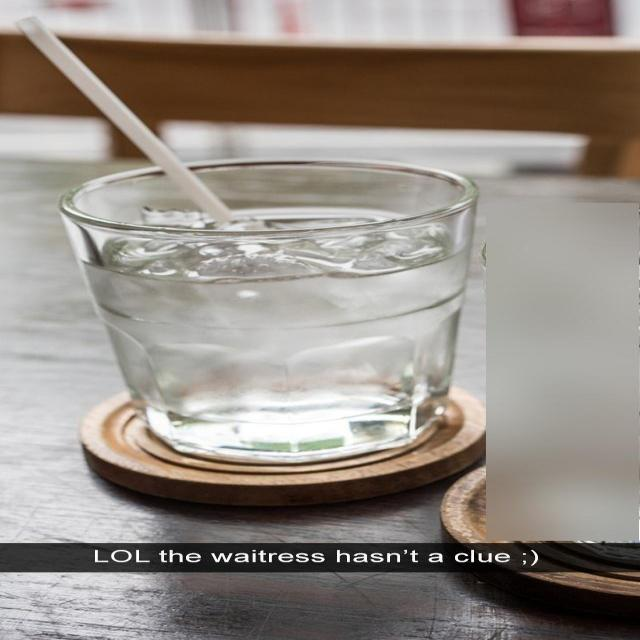glass-normal: (55, 155, 480, 460)
